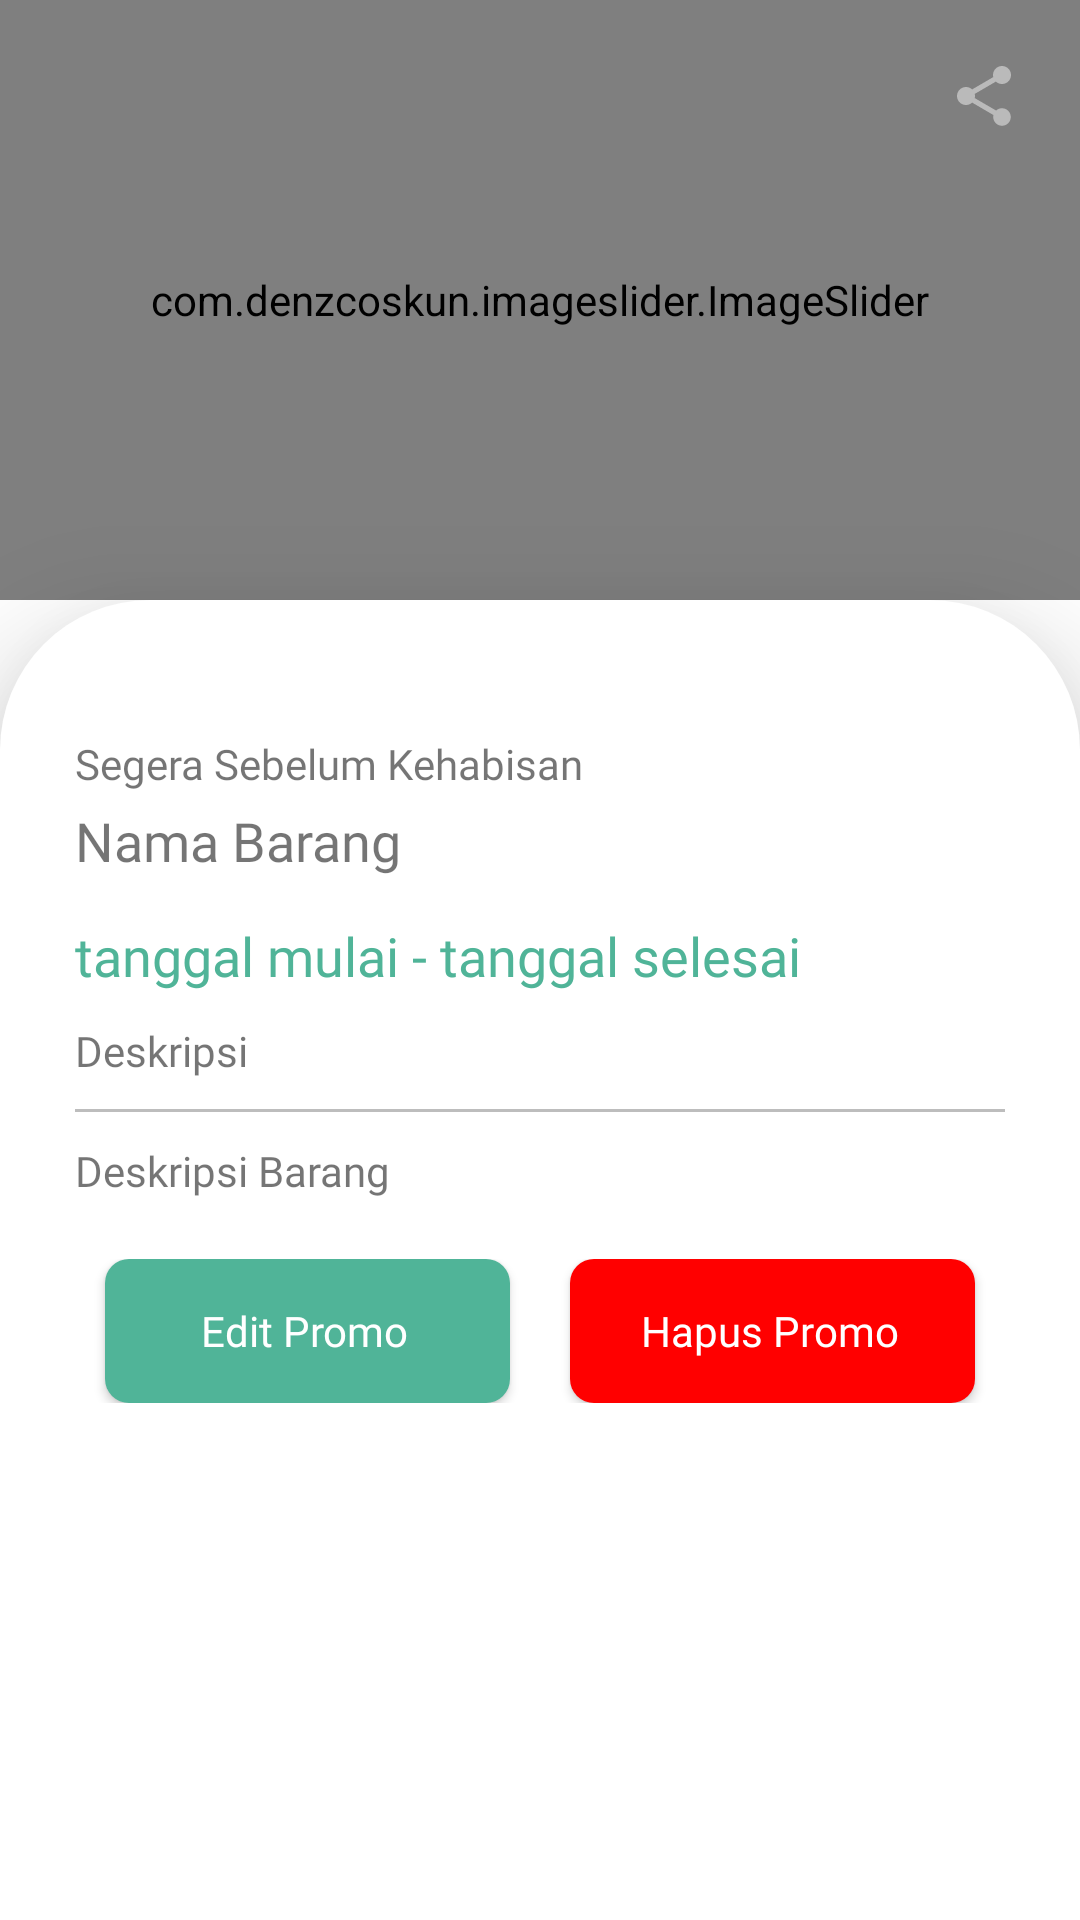

Screen size 1080 × 1920. Icon name, then its center in pixels as point (x, y):
share: point (984, 96)
